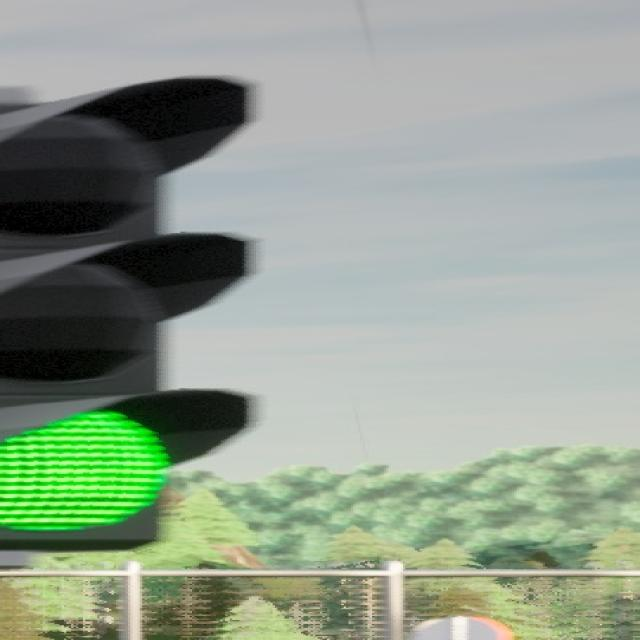green_light: (0, 60, 259, 552)
